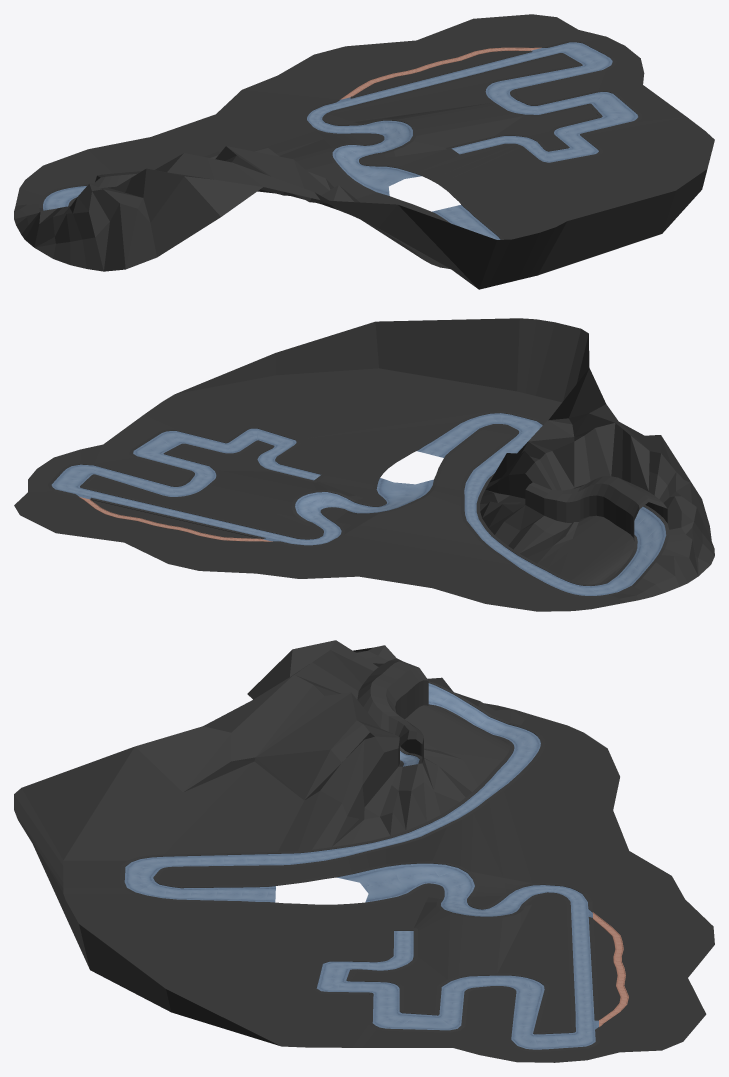
The picture shows the model from 3 angles, top to bottom: view 1: azimuth 30°, elevation 25°; view 2: azimuth 150°, elevation 25°; view 3: azimuth 270°, elevation 25°; orthographic projection. The views are drawn at different scales.
Visible parts, largest first — view 1: Trottoirs, PisteFinale, M.Caillebotis.FDM.001, M.Caillebotis.FDM.002; view 2: Trottoirs, PisteFinale, M.Caillebotis.FDM.001; view 3: Trottoirs, PisteFinale, M.Caillebotis.FDM.001.
Boxes of the visible parts, left/top/right/bottom form: Trottoirs: left=14, top=14, right=714, bottom=289; PisteFinale: left=43, top=42, right=638, bottom=239; M.Caillebotis.FDM.001: left=341, top=48, right=540, bottom=99; M.Caillebotis.FDM.002: left=340, top=47, right=541, bottom=99; Trottoirs: left=14, top=318, right=714, bottom=611; PisteFinale: left=51, top=413, right=666, bottom=595; M.Caillebotis.FDM.001: left=80, top=497, right=270, bottom=541; Trottoirs: left=14, top=640, right=714, bottom=1062; PisteFinale: left=124, top=683, right=595, bottom=1049; M.Caillebotis.FDM.001: left=593, top=913, right=627, bottom=1026.
Size of the model in its own units: 50324 by 7161 by 40813.
